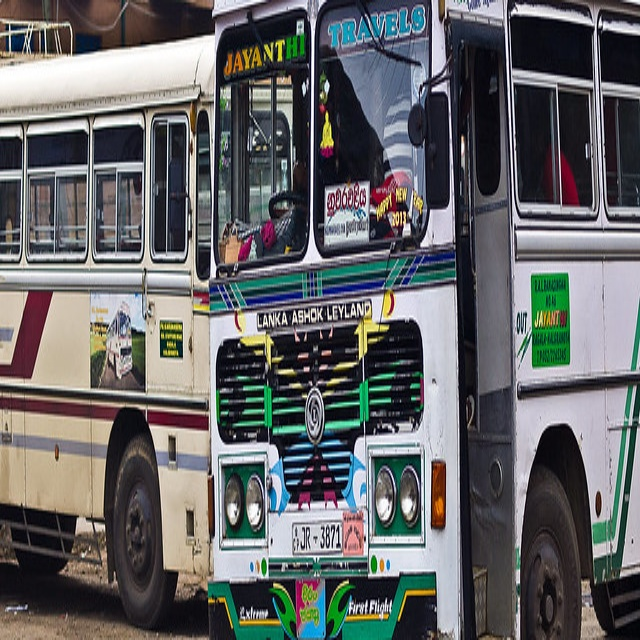Bus: (207, 2, 640, 640), (1, 35, 208, 628)
